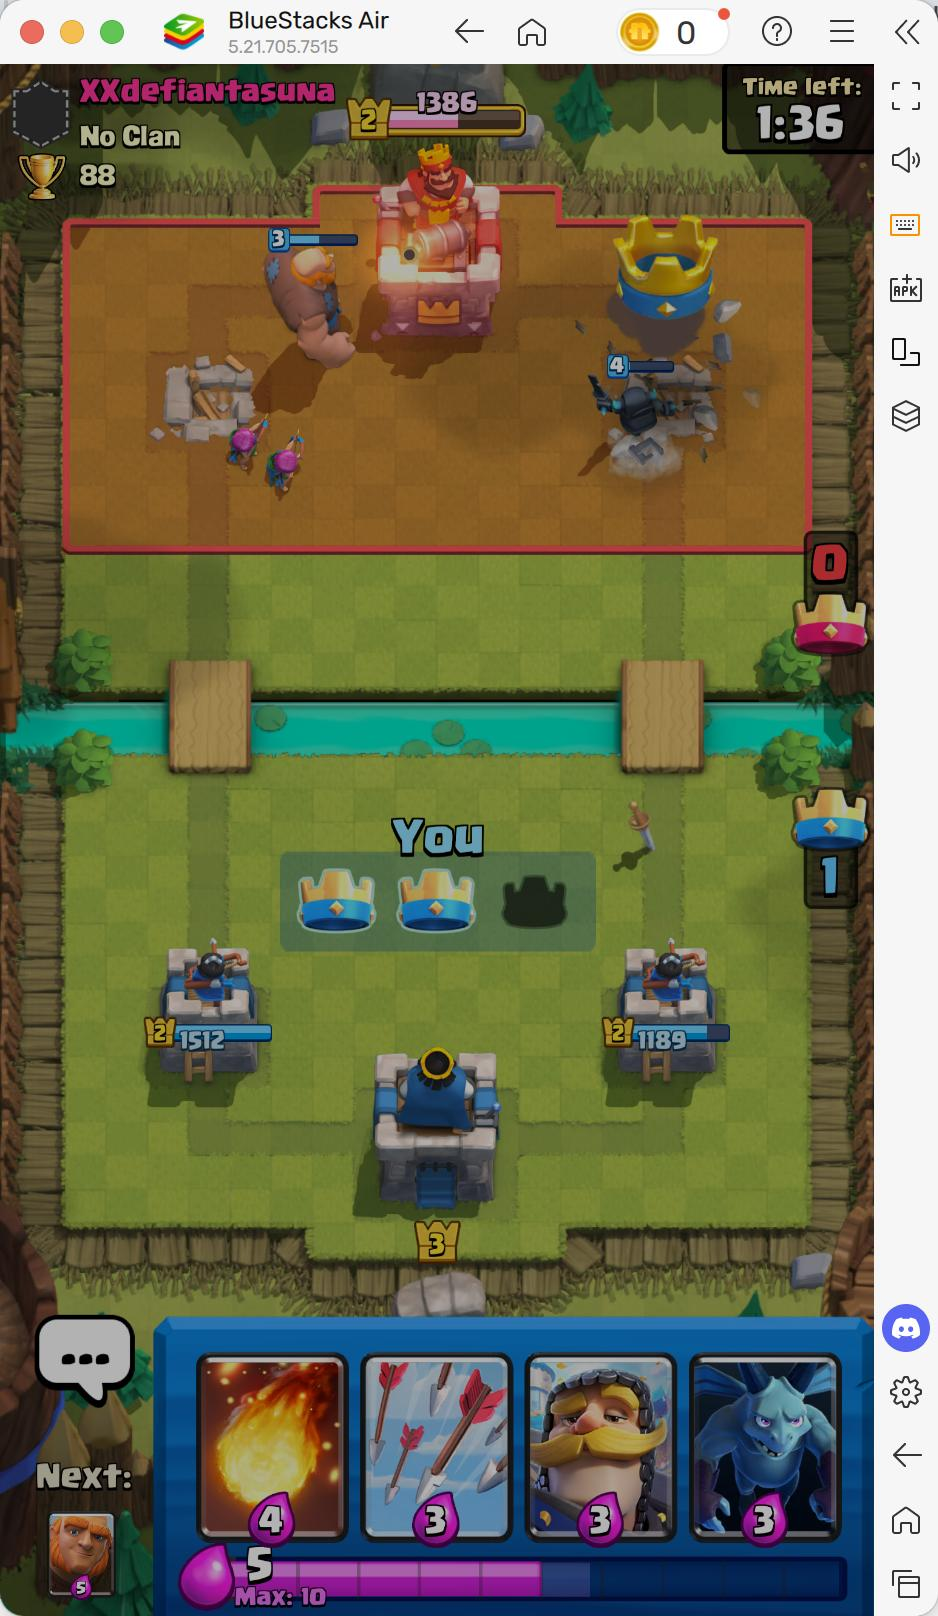1: (755, 103, 774, 143), (414, 89, 428, 115), (178, 1028, 189, 1052), (645, 1029, 658, 1051), (202, 1029, 212, 1052), (636, 1029, 647, 1051)
14: (619, 946, 716, 1072)
2: (209, 1029, 227, 1051)
3: (786, 100, 816, 143), (586, 1500, 615, 1540), (750, 1503, 779, 1539), (421, 1502, 449, 1539), (425, 89, 442, 115)
4: (258, 1502, 287, 1537)
5: (246, 1542, 275, 1589), (186, 1029, 204, 1052), (75, 1578, 87, 1598)
7: (814, 102, 848, 143), (460, 88, 480, 114)
Battle: (441, 88, 461, 115), (655, 1029, 673, 1051)
Enemy Tower: (670, 1028, 688, 1052)
Friendly Winner: (157, 946, 258, 1072)
